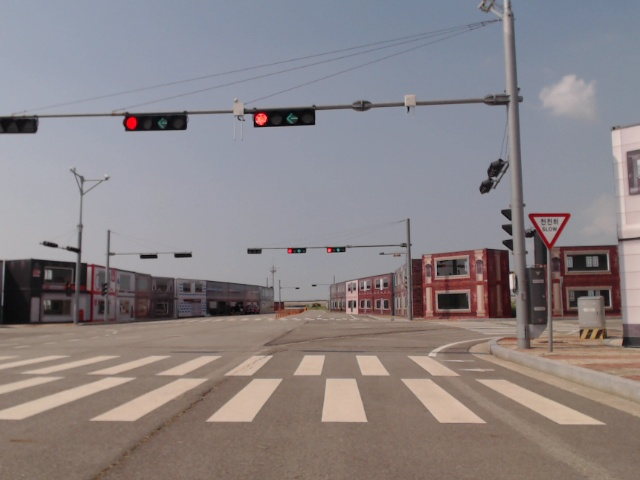left_green_4: (125, 115, 187, 131), (254, 112, 314, 127), (288, 248, 306, 254), (327, 247, 345, 252)
